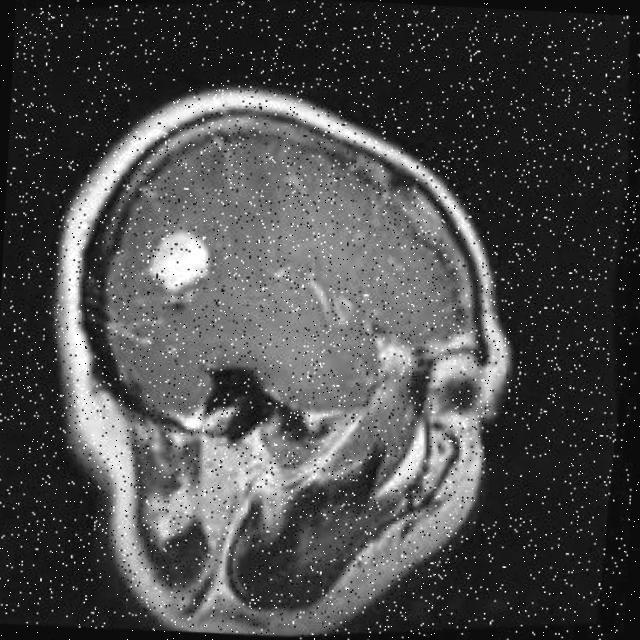LMCI: (129, 202, 232, 328)
